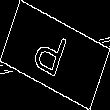P_SW: (34, 24, 76, 86)
